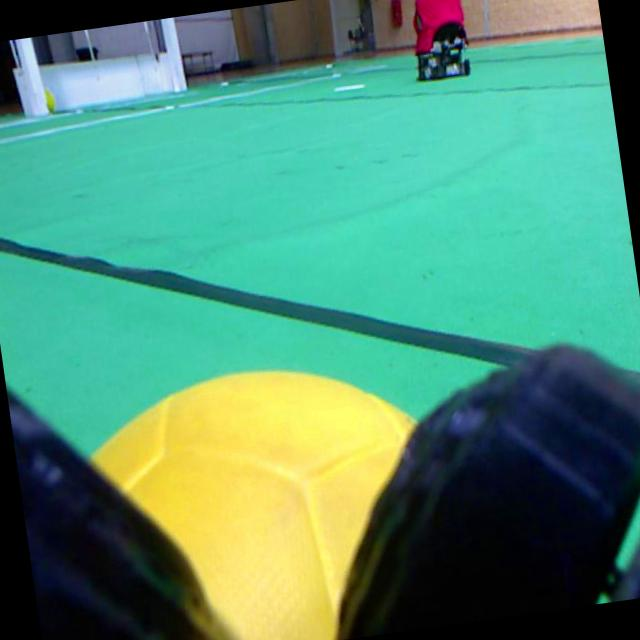ball: (92, 371, 414, 640), (44, 90, 53, 112)
goal: (16, 38, 48, 115), (163, 17, 185, 91)
